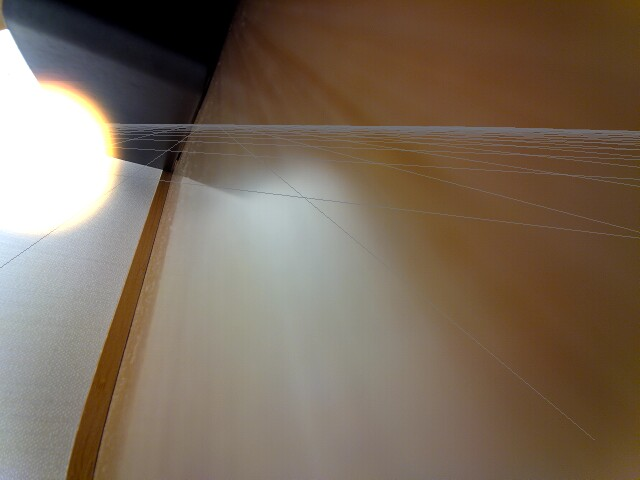firebig: (0, 66, 148, 271)
